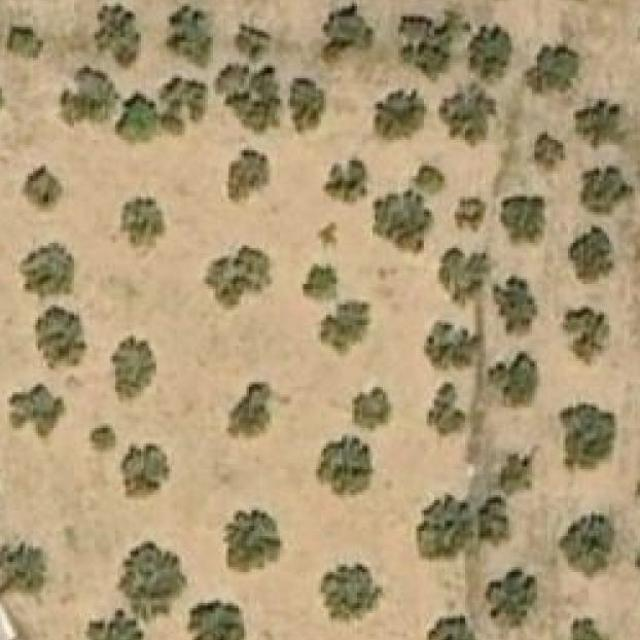Tree: (118, 539, 188, 625), (215, 63, 282, 135), (204, 246, 274, 311), (558, 402, 617, 474), (223, 510, 285, 576), (416, 495, 477, 562), (61, 62, 120, 128), (316, 436, 372, 503), (398, 11, 458, 73), (318, 564, 380, 623), (558, 514, 614, 578), (158, 4, 213, 69), (483, 565, 537, 627), (373, 194, 429, 253), (436, 245, 491, 304), (95, 1, 141, 71), (110, 336, 156, 406), (318, 150, 374, 207), (315, 300, 369, 359), (0, 541, 52, 602), (35, 308, 86, 369), (439, 92, 496, 146), (20, 243, 74, 299), (565, 224, 614, 284), (563, 307, 612, 366), (323, 4, 373, 61), (9, 385, 64, 436), (371, 88, 426, 138), (120, 443, 170, 498), (524, 44, 578, 94), (486, 354, 535, 408), (421, 320, 472, 371), (501, 194, 547, 249), (228, 150, 270, 210), (187, 598, 247, 640), (468, 27, 512, 83), (493, 277, 537, 333), (580, 166, 632, 212), (117, 94, 164, 143), (575, 102, 625, 148), (228, 382, 270, 436), (163, 73, 204, 125), (122, 196, 164, 246), (289, 78, 323, 133), (234, 24, 272, 73), (22, 166, 64, 210), (429, 382, 465, 433), (88, 610, 144, 640), (496, 454, 535, 495), (354, 387, 390, 428), (302, 264, 338, 304), (426, 615, 475, 640), (454, 196, 486, 232), (534, 132, 565, 168), (7, 27, 43, 58), (416, 158, 444, 194), (570, 618, 604, 640), (90, 426, 115, 452), (318, 222, 338, 251)
